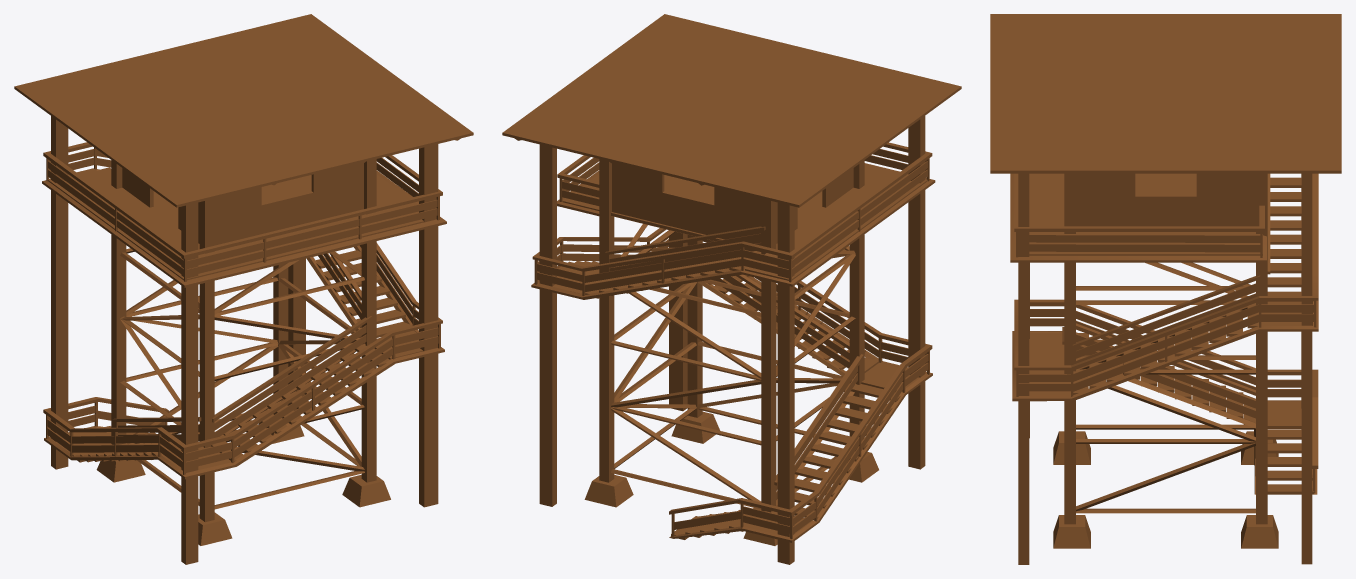
File: Watchtower.fbx
3 views of the same model, side by side, from view 1: azimuth 30°, elevation 25°; view 2: azimuth 150°, elevation 25°; view 3: azimuth 270°, elevation 25° (orthographic). The views are drawn at different scales.
Parts seen in each view (by area): view 1: Watchtower.001, Watchtower; view 2: Watchtower.001, Watchtower; view 3: Watchtower.001, Watchtower, Watchtower.002.
Boxes of the visible parts, x1,y1,x2,y2 form: Watchtower.001: [14, 14, 473, 564]; Watchtower: [43, 138, 460, 545]; Watchtower.001: [502, 14, 961, 564]; Watchtower: [515, 138, 932, 545]; Watchtower.001: [990, 14, 1341, 564]; Watchtower: [1012, 173, 1318, 548]; Watchtower.002: [1076, 173, 1255, 226].
Bounding box in the file's own units: 821 × 992 × 778.
